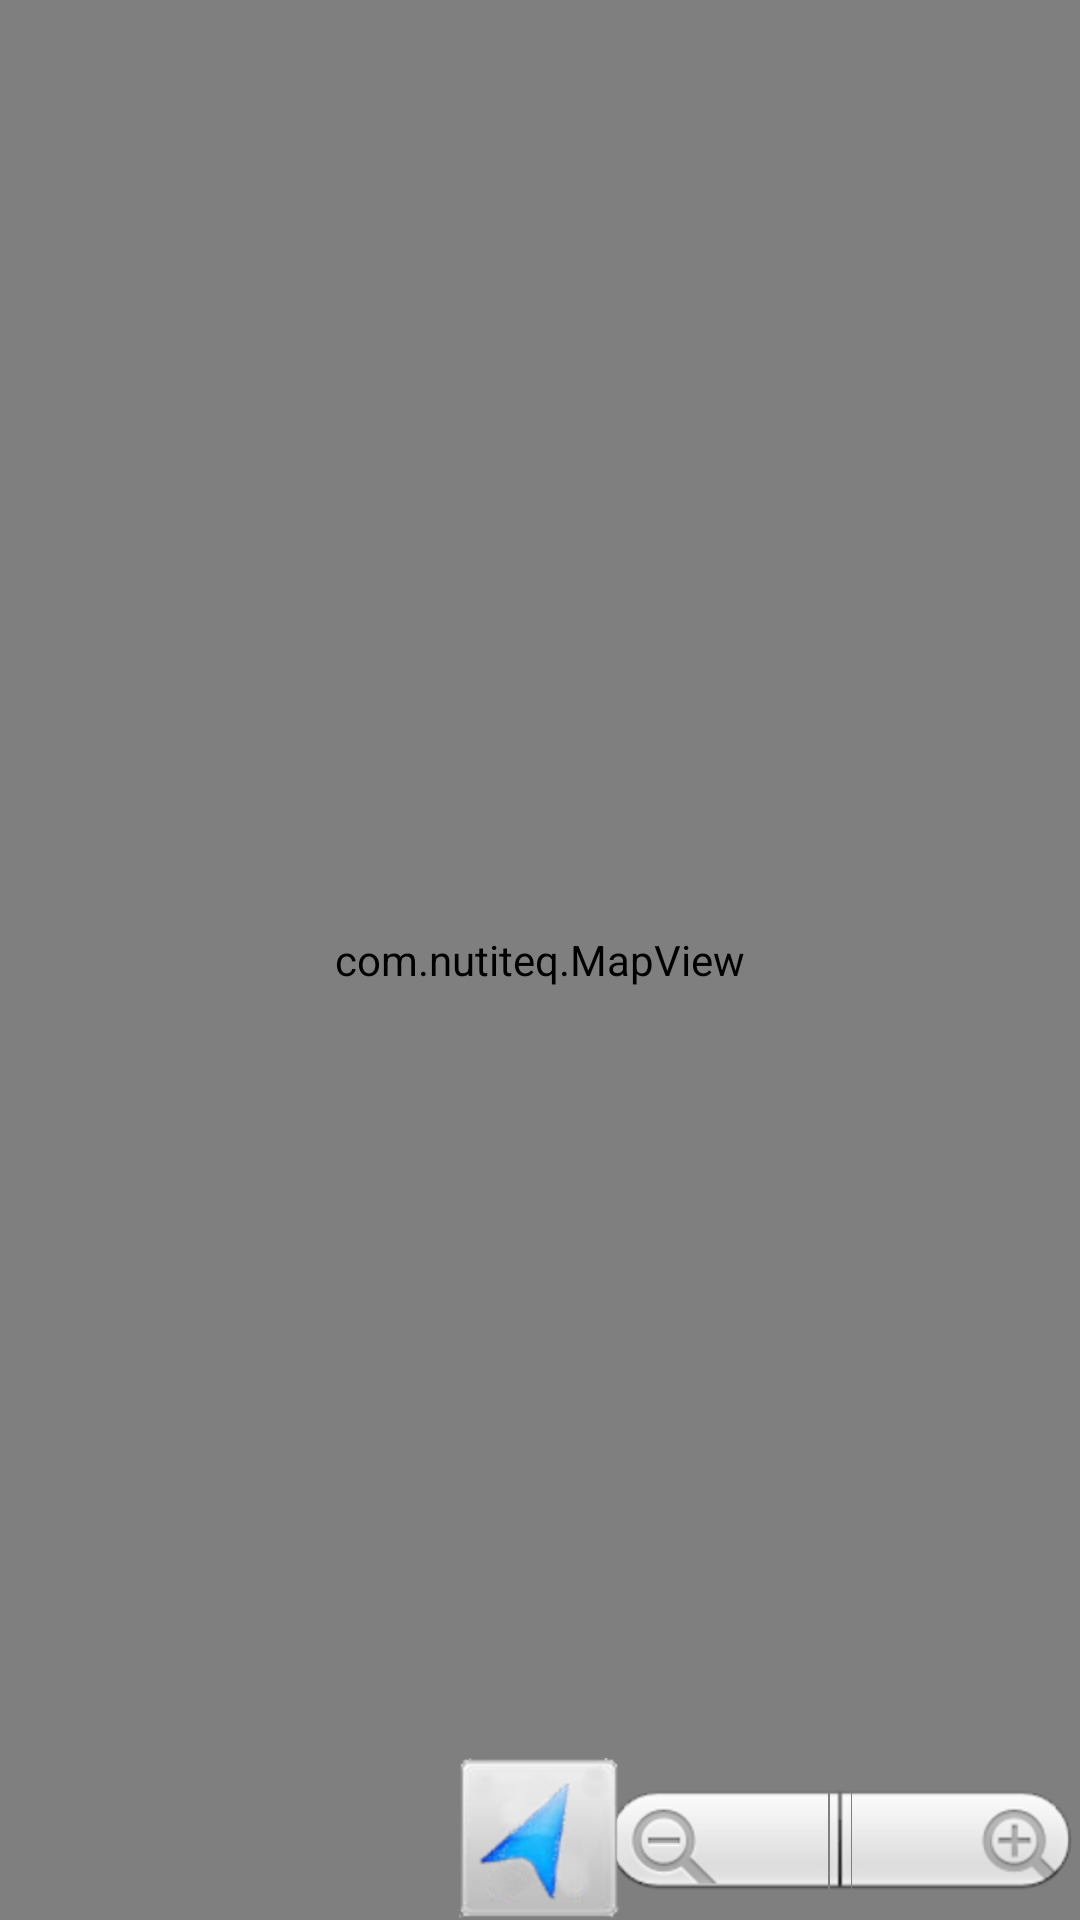

Screen size 1080x1920. Icon name, then its center in pixels as (x=x, y=y):
nav: (x=540, y=1837)
